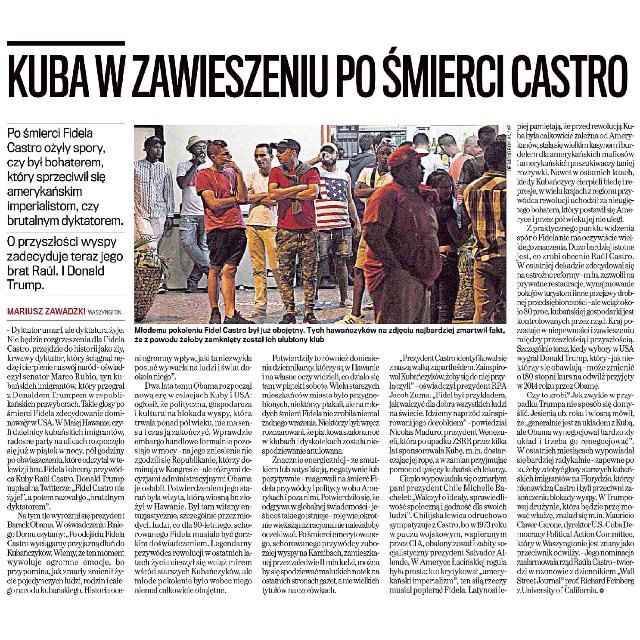author: (3, 302, 87, 318)
body: (514, 120, 638, 598), (2, 322, 130, 598), (133, 350, 257, 598), (386, 348, 509, 598), (262, 350, 384, 598)
caption: (133, 326, 507, 344)
image: (132, 122, 508, 324)
lead: (3, 124, 128, 294)
title: (6, 46, 630, 106)
